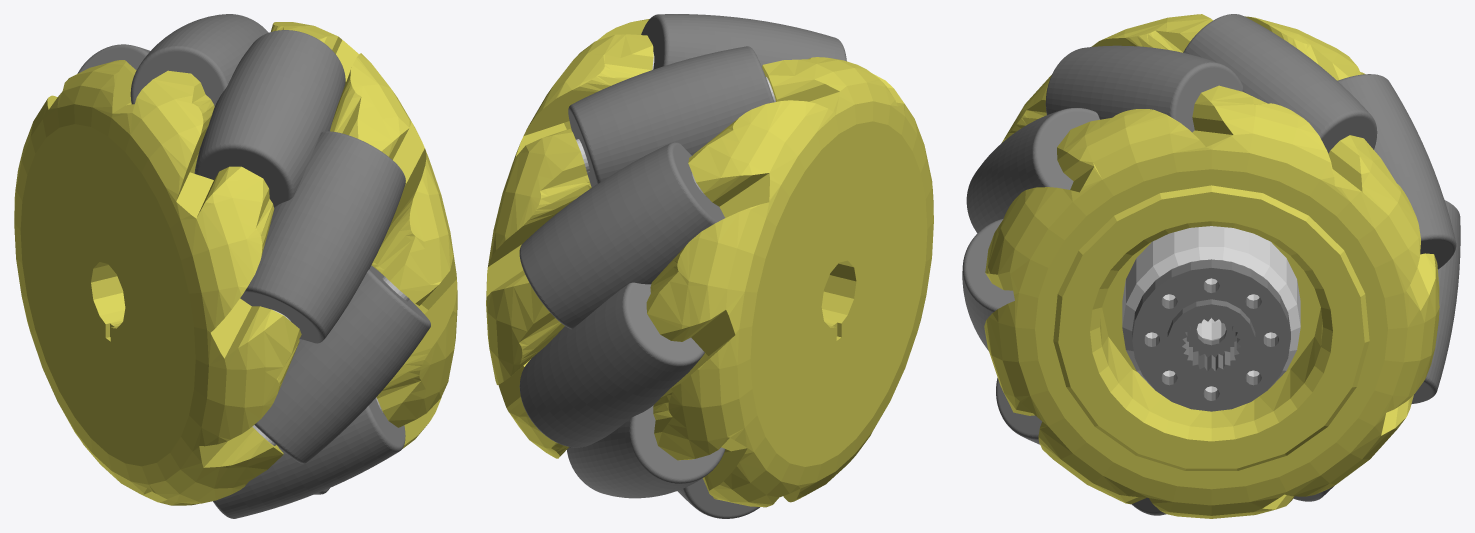
Rendered from mechanum_phi48-3.glb.
3 views of the same model, side by side, from view 1: azimuth 30°, elevation 25°; view 2: azimuth 150°, elevation 25°; view 3: azimuth 270°, elevation 25° (orthographic).
Visible parts, largest first — view 1: mechanum_phi48-3; view 2: mechanum_phi48-3; view 3: mechanum_phi48-3.
Boxes of the visible parts, x1,y1,x2,y2 form: mechanum_phi48-3: [14, 14, 457, 518]; mechanum_phi48-3: [486, 14, 933, 518]; mechanum_phi48-3: [962, 14, 1460, 518].
Bounding box in the file's own units: 0.0337 × 0.0502 × 0.0502.
